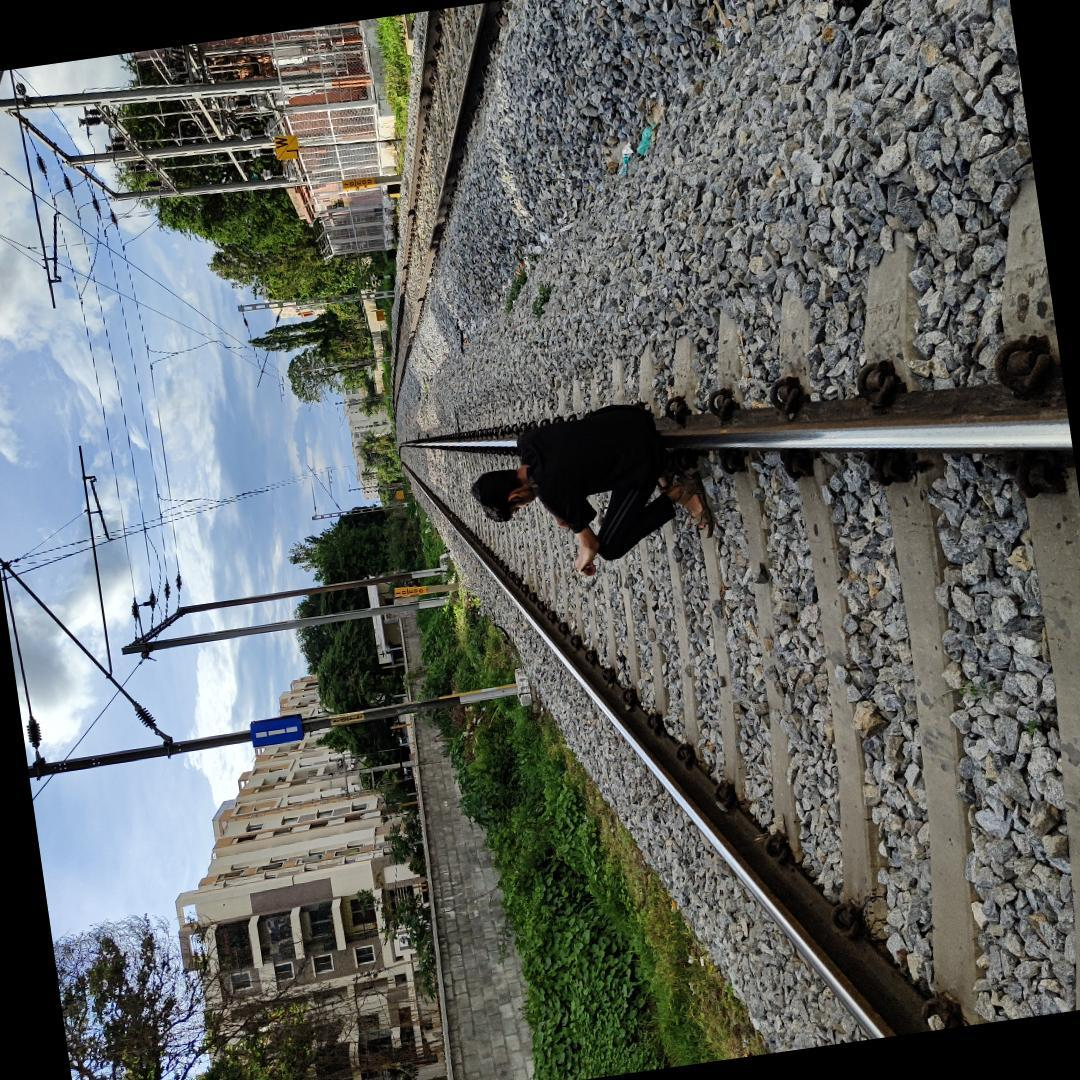sitting: (452, 375, 726, 604)
